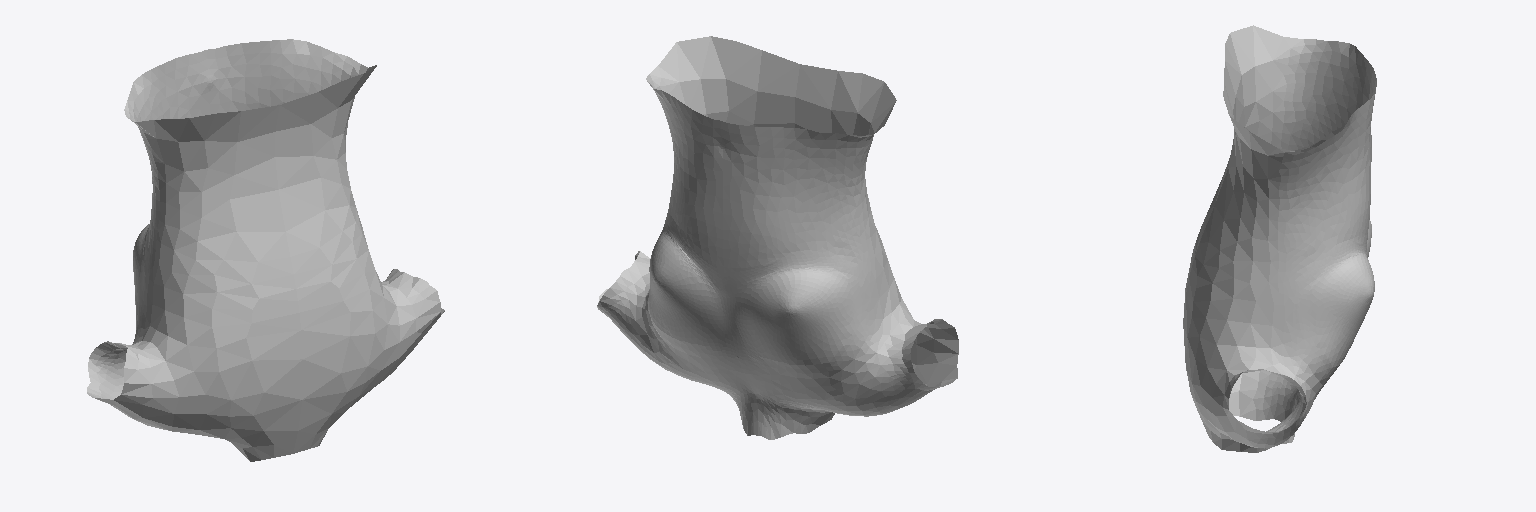
File: increasedModel_Jg.obj
The picture shows the model from 3 angles: view 1: azimuth 30°, elevation 25°; view 2: azimuth 150°, elevation 25°; view 3: azimuth 270°, elevation 25°; orthographic projection.
Bounding box in the file's own units: 52.43 × 51.29 × 24.86.